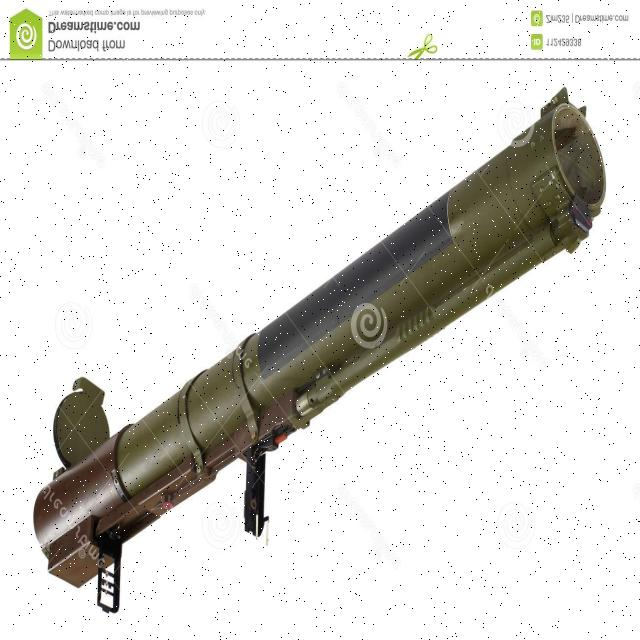bazooka: (25, 75, 620, 624)
